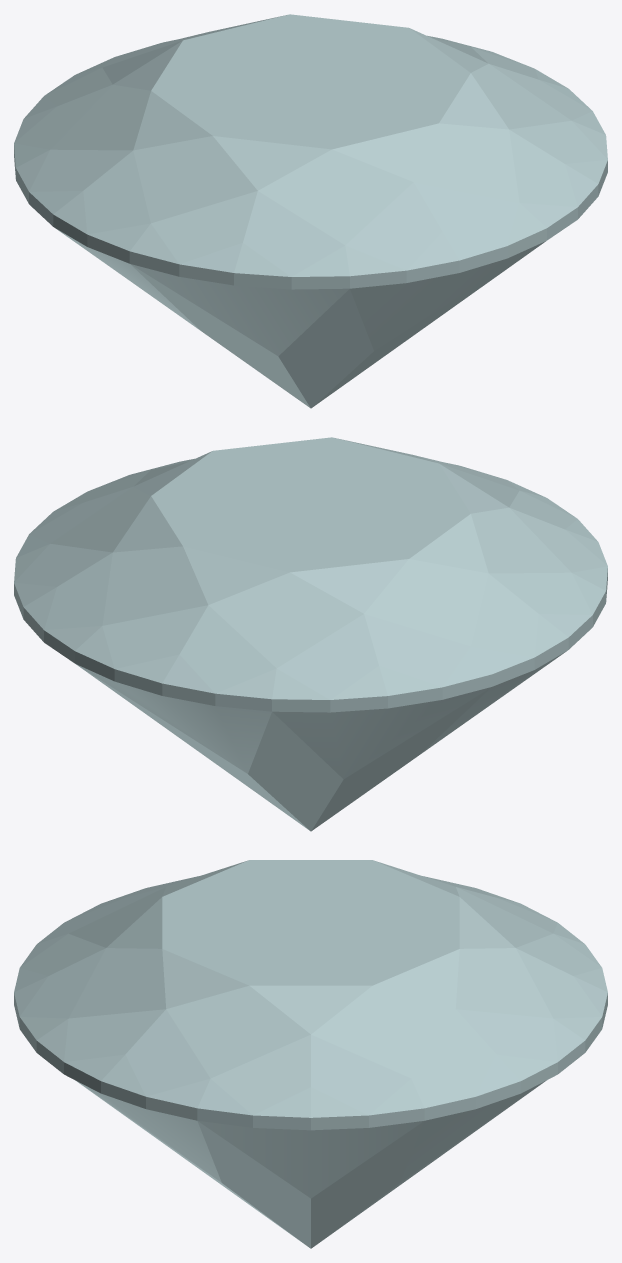
File: stone_royal_cut.fbx
3 renders of one model, top to bottom at view 1: azimuth 30°, elevation 25°; view 2: azimuth 150°, elevation 25°; view 3: azimuth 270°, elevation 25°, orthographic.
Visible parts, largest first — view 1: stone_royal_cut; view 2: stone_royal_cut; view 3: stone_royal_cut.
Boxes of the visible parts, left/top/right/bottom form: stone_royal_cut: left=14, top=14, right=607, bottom=408; stone_royal_cut: left=14, top=437, right=607, bottom=831; stone_royal_cut: left=14, top=860, right=607, bottom=1248.
Size of the model in its own units: 1.39 by 0.8445 by 1.39.
